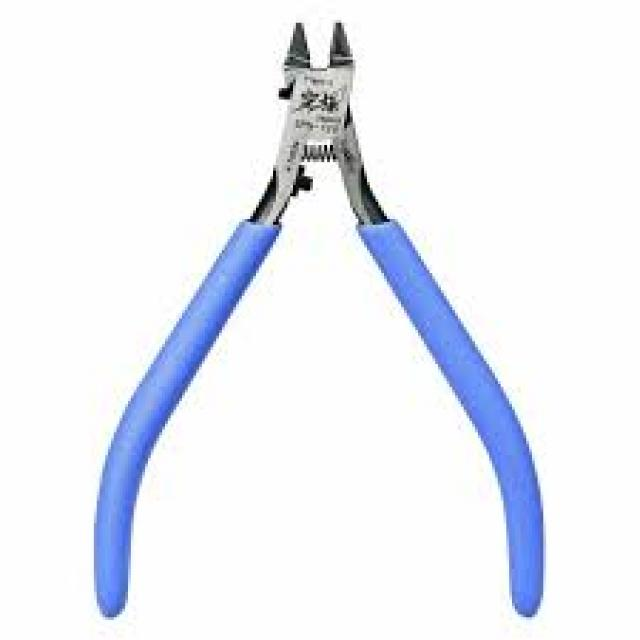Pliers: (82, 16, 559, 622)
